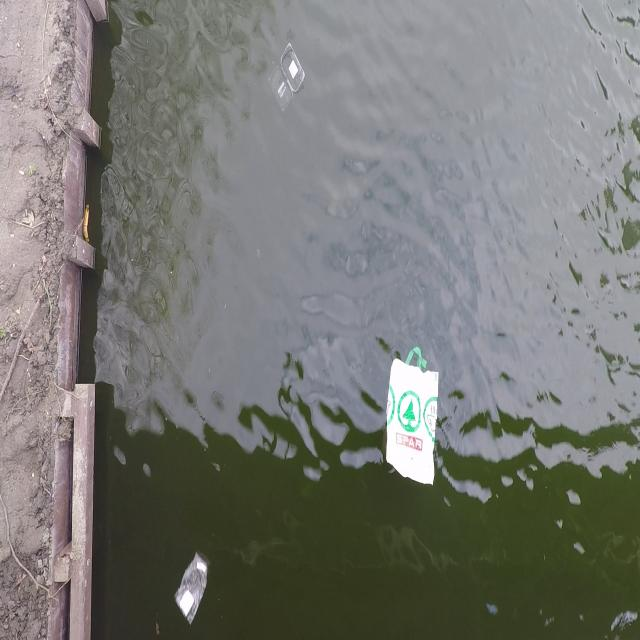Autre plastique: (268, 38, 309, 118)
Sac plastique: (383, 332, 442, 504), (168, 548, 218, 632)
